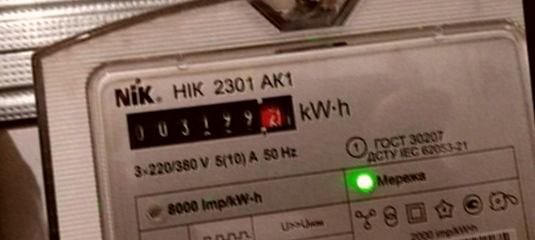0: (157, 118, 170, 138), (134, 122, 145, 140)
1: (201, 111, 212, 130)
3: (179, 116, 191, 137)
6: (267, 112, 279, 127)
9: (222, 107, 234, 128), (244, 107, 255, 126)
screen: (118, 84, 305, 157)
